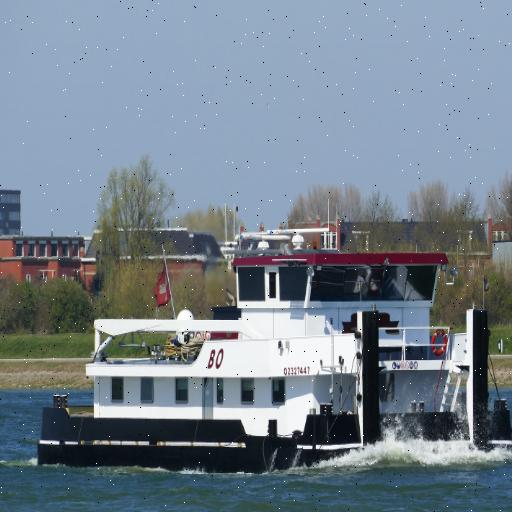tugboat: (34, 210, 512, 485)
